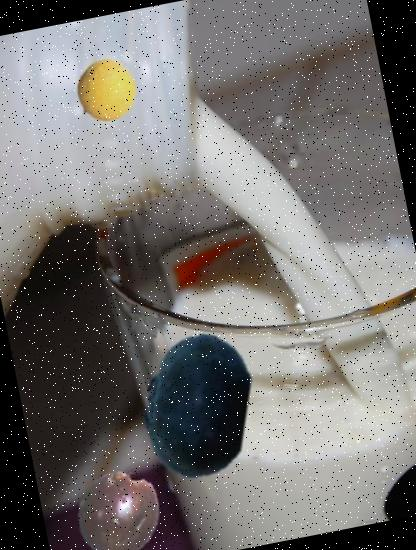Blueberry: (111, 320, 282, 491)
Cantaloupe: (68, 54, 144, 128)
Passion: (66, 460, 172, 550)
